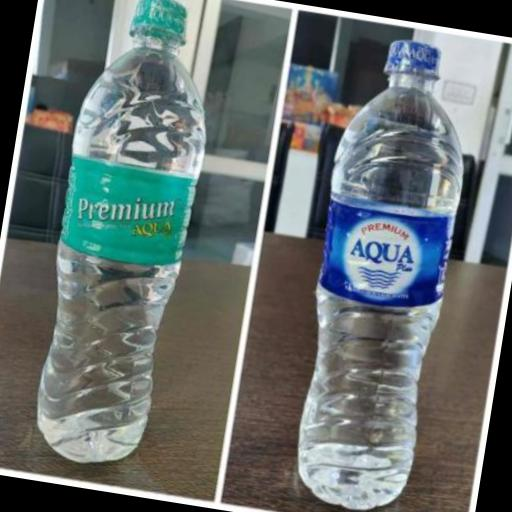Coca: (262, 21, 491, 512), (10, 0, 236, 485)
